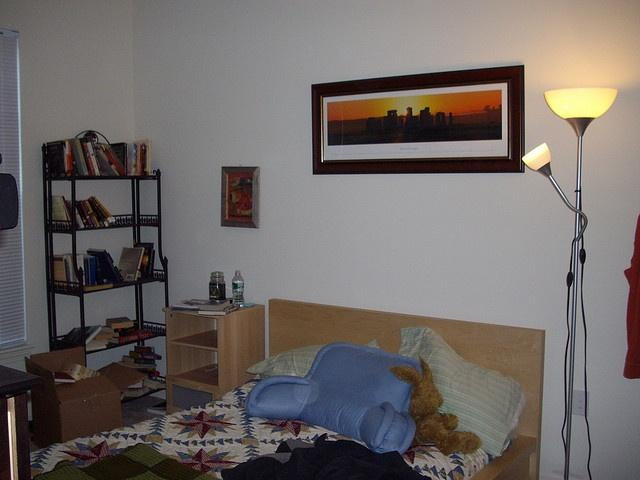Rak: (46, 176, 169, 353)
